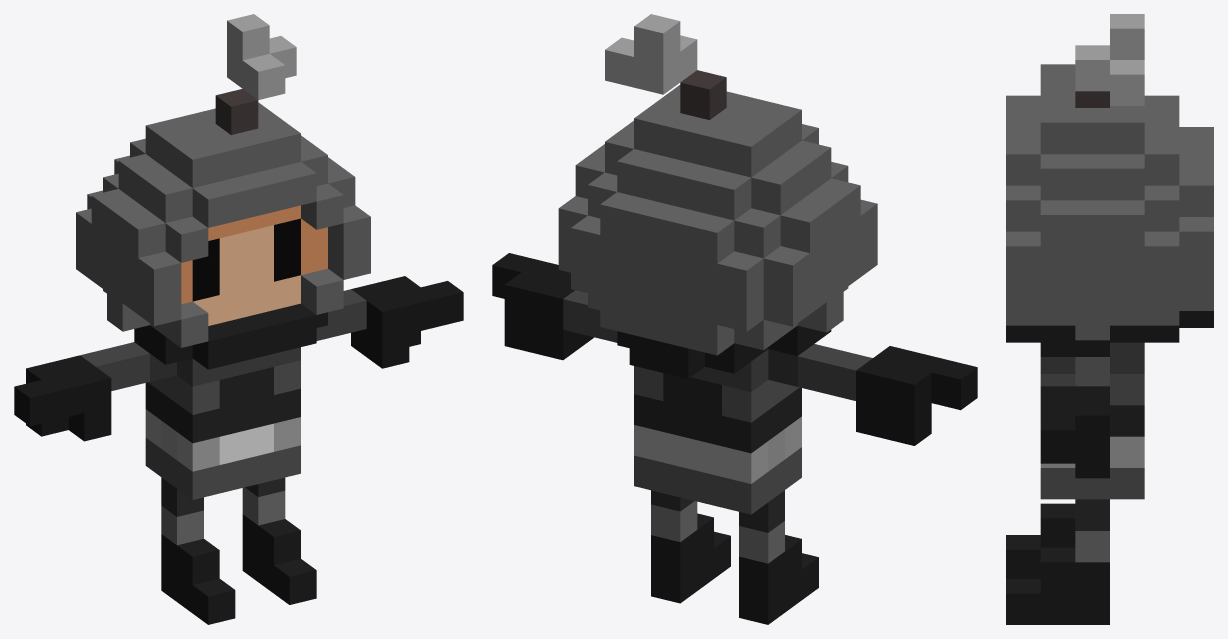
Rendered from generic3.obj.
3 renders of one model, left to right at view 1: azimuth 30°, elevation 25°; view 2: azimuth 150°, elevation 25°; view 3: azimuth 270°, elevation 25°, orthographic. The views are drawn at different scales.
Bounding box in the file's own units: 16 × 19 × 6.
